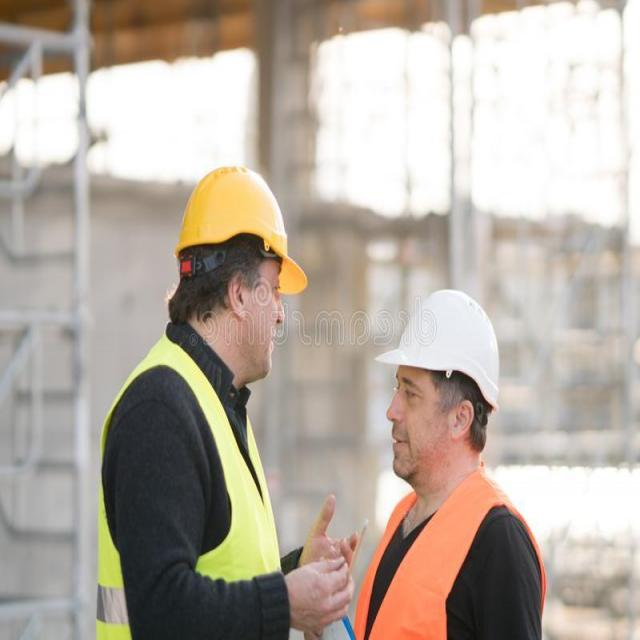Reflective-Jacket: (90, 331, 292, 640), (352, 460, 550, 640)
Safety-Helmet: (168, 154, 307, 305), (374, 278, 508, 418)
